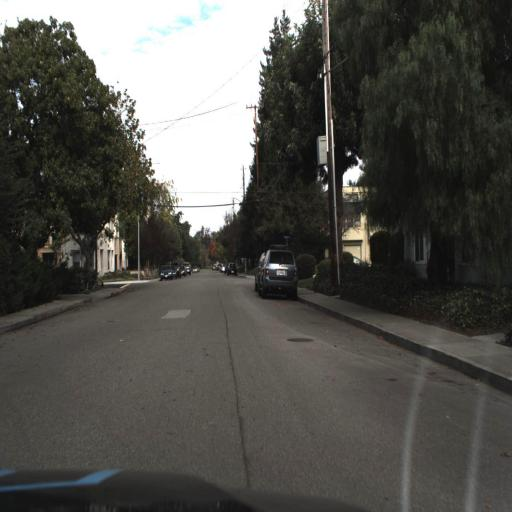car: (260, 244, 306, 307), (156, 262, 174, 284)
